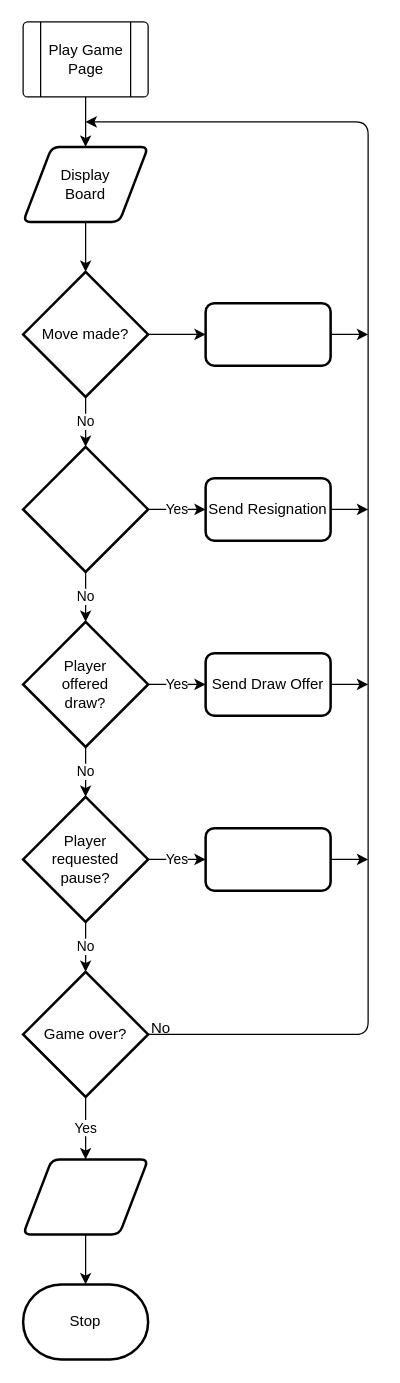
The diagram is 400 pixels wide and 1383 high, and some of its shapes have lost their labels. Here are the shapes that lost their labels. From the top down, the centre of each, then its label:
pixel 267 333: Send Move
pixel 85 508: Player resigned?
pixel 267 858: Send Pause Request
pixel 85 1196: Display Game Over Screen
